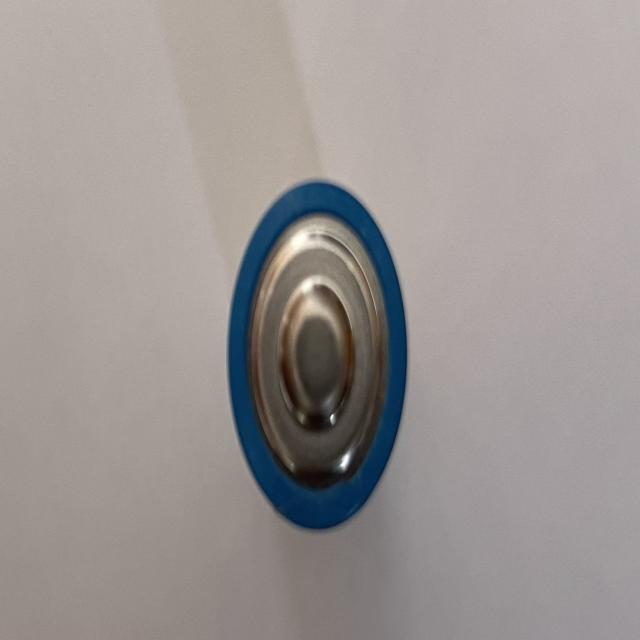hazardous waste: (225, 176, 408, 538)
